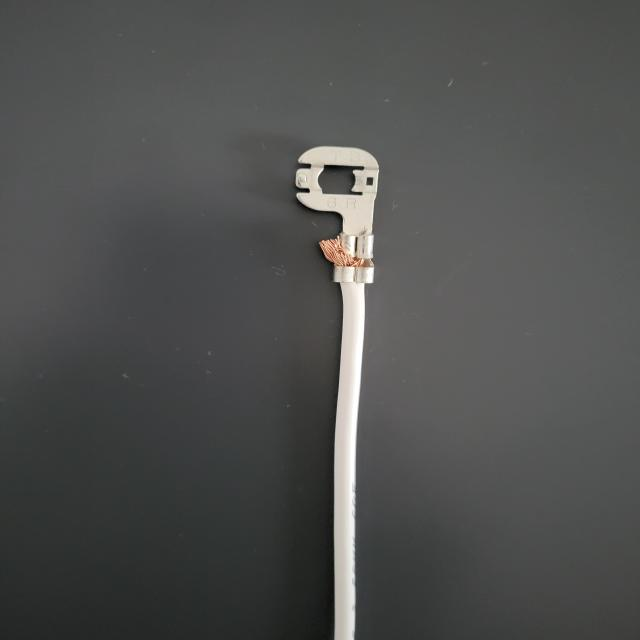defect: (275, 231, 417, 302)
